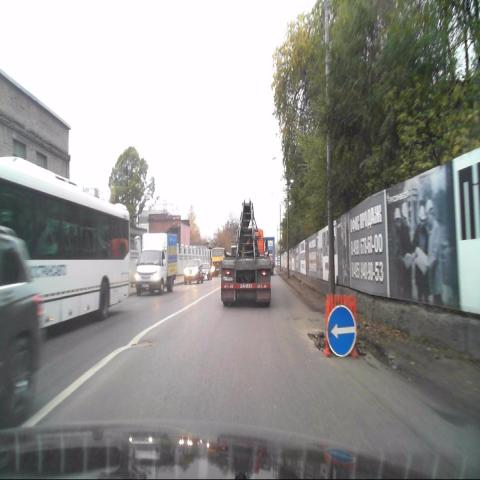4_1_2_2: (327, 306, 356, 358)
